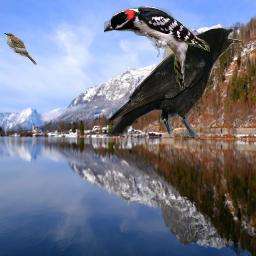Crow: (103, 24, 245, 146)
Cuckoo: (4, 33, 37, 65)
Woodpecker: (104, 5, 211, 92)
